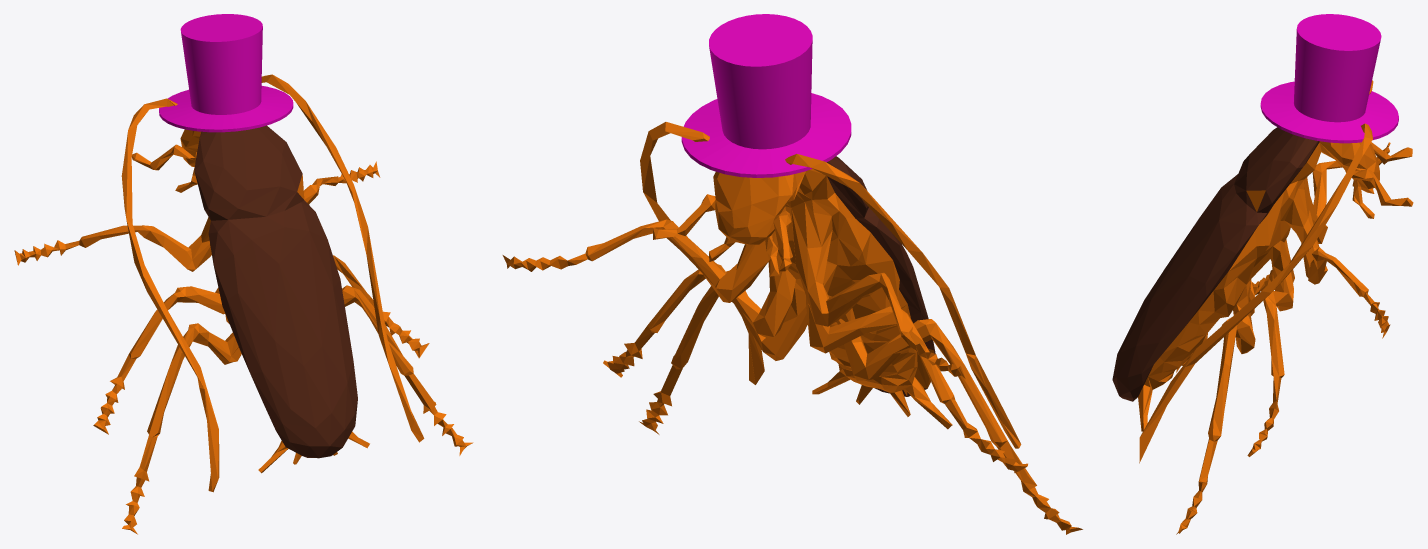
The model's file is cock1.fbx.
3 renders of one model, left to right at view 1: azimuth 30°, elevation 25°; view 2: azimuth 150°, elevation 25°; view 3: azimuth 270°, elevation 25°, orthographic. The views are drawn at different scales.
Visible parts, largest first — view 1: 15919_Cockroach_v1; view 2: 15919_Cockroach_v1; view 3: 15919_Cockroach_v1.
Part boxes in pixels (<box>): 15919_Cockroach_v1: <box>14,14,473,534</box>; 15919_Cockroach_v1: <box>502,14,1082,534</box>; 15919_Cockroach_v1: <box>1112,14,1413,534</box>.
Bounding box in the file's own units: 120 × 130 × 83.36.
